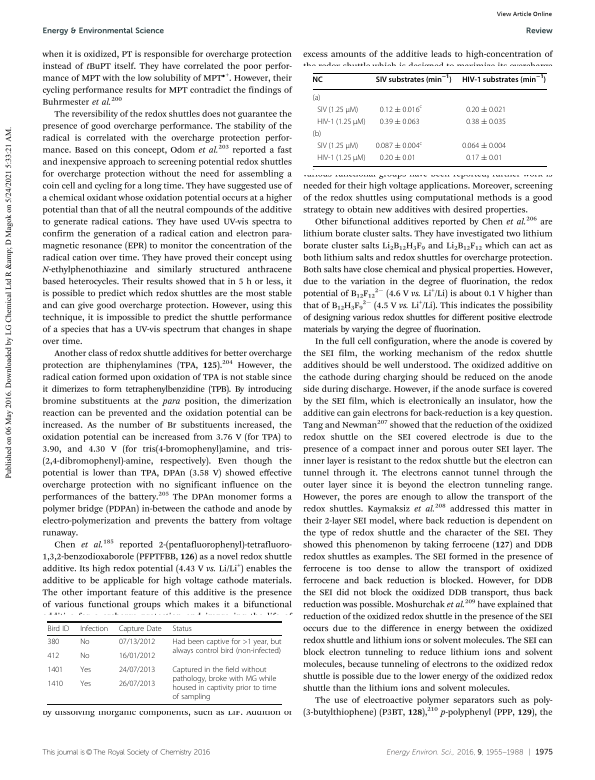borderless: (311, 71, 547, 166), (47, 620, 282, 704)
cell: (171, 665, 277, 702), (171, 637, 282, 656), (461, 74, 547, 84), (375, 74, 453, 84), (375, 140, 423, 151), (316, 117, 367, 127), (379, 104, 423, 115), (316, 154, 367, 163), (316, 105, 359, 115), (465, 105, 507, 115), (379, 117, 421, 127), (465, 117, 507, 127), (461, 142, 507, 151), (118, 624, 162, 633), (316, 142, 359, 151), (118, 637, 156, 647), (118, 651, 156, 661), (118, 665, 156, 675), (118, 679, 156, 689), (379, 154, 417, 163), (465, 154, 503, 163), (79, 624, 109, 633), (47, 624, 70, 633), (171, 624, 193, 633), (47, 665, 64, 675), (47, 679, 64, 689), (47, 637, 60, 647), (47, 651, 60, 661), (79, 665, 92, 675), (79, 679, 92, 689), (79, 637, 90, 647), (79, 651, 90, 661), (312, 75, 324, 84), (312, 93, 321, 103), (312, 130, 322, 139)
